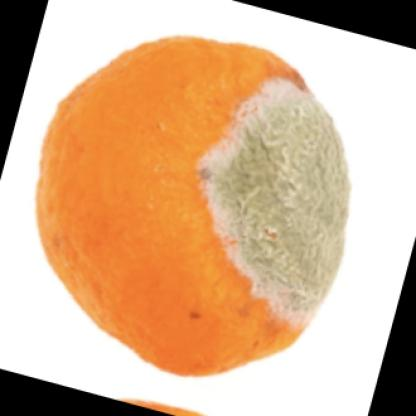rotten: (36, 37, 352, 378)
